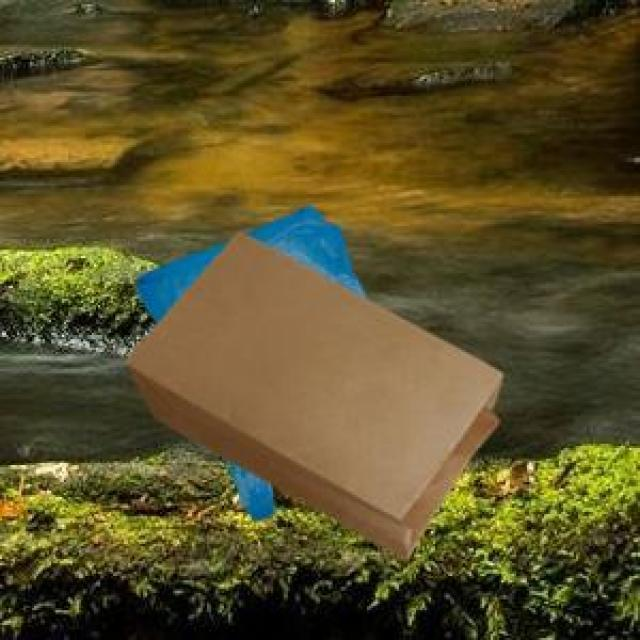paper: (122, 228, 497, 555)
